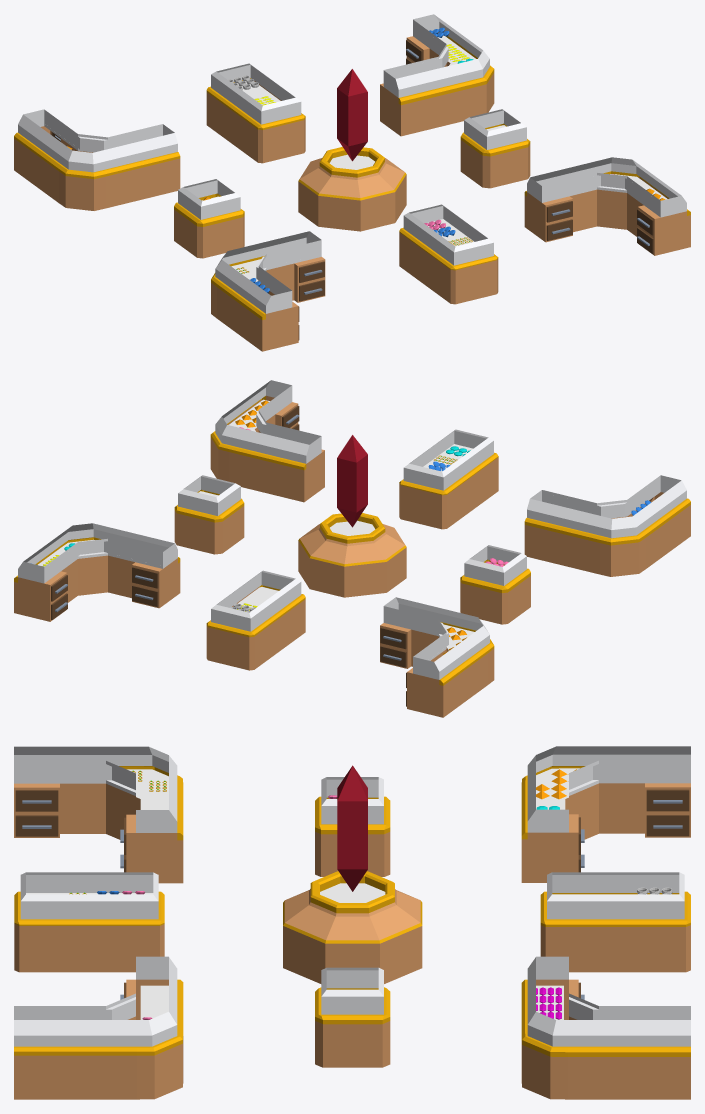
The model's file is Jewelry tile 2.fbx.
3 views of the same model, one above another, from view 1: azimuth 30°, elevation 25°; view 2: azimuth 150°, elevation 25°; view 3: azimuth 270°, elevation 25° (orthographic). The views are drawn at different scales.
Visible parts, largest first — view 1: Cube.125, Cube.129, Cube.104, Cube.127, Cube.033, Cube.001, Cube.126, Cube.133, Cube.102, Cube.040; view 2: Cube.104, Cube.127, Cube.125, Cube.129, Cube.033, Cube.126, Cube.001, Cube.133, Cube.102, Cube.040; view 3: Cube.129, Cube.127, Cube.104, Cube.125, Cube.001, Cube.126, Cube.033, Cube.133, Cube.102, Cube.040.
Boxes of the visible parts, <box> form: Cube.125: <box>14,109,180,210</box>; Cube.129: <box>524,157,690,255</box>; Cube.104: <box>211,231,325,351</box>; Cube.127: <box>380,14,494,136</box>; Cube.033: <box>298,147,406,231</box>; Cube.001: <box>399,204,498,304</box>; Cube.126: <box>206,63,305,163</box>; Cube.133: <box>460,109,530,188</box>; Cube.102: <box>174,179,244,258</box>; Cube.040: <box>337,69,367,161</box>; Cube.104: <box>524,475,690,576</box>; Cube.127: <box>14,523,180,621</box>; Cube.125: <box>380,597,494,717</box>; Cube.129: <box>210,380,324,502</box>; Cube.033: <box>298,513,406,597</box>; Cube.126: <box>206,570,305,670</box>; Cube.001: <box>399,429,498,529</box>; Cube.133: <box>174,475,244,554</box>; Cube.102: <box>460,545,530,624</box>; Cube.040: <box>337,435,367,527</box>; Cube.129: <box>14,956,183,1099</box>; Cube.127: <box>521,956,690,1099</box>; Cube.104: <box>14,746,183,883</box>; Cube.125: <box>521,746,690,882</box>; Cube.001: <box>14,872,164,972</box>; Cube.126: <box>540,872,690,972</box>; Cube.033: <box>283,871,422,983</box>; Cube.133: <box>315,967,390,1067</box>; Cube.102: <box>315,777,390,876</box>; Cube.040: <box>337,765,367,891</box>.
Size of the model in its own units: 900 by 281 by 901.
